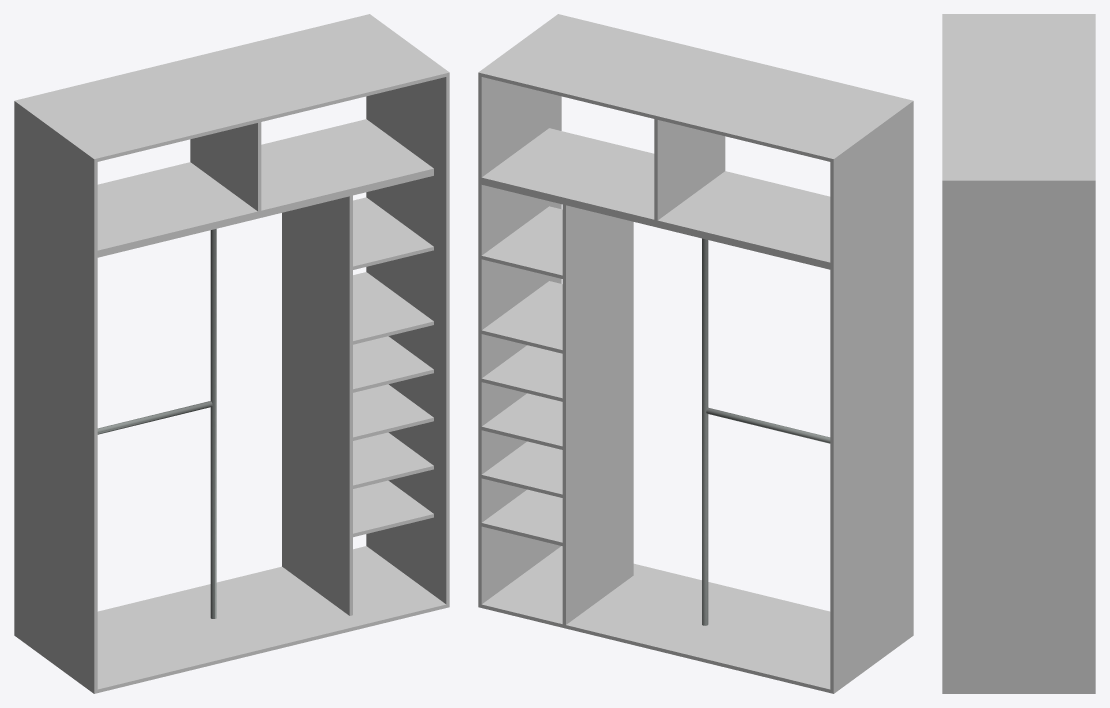
Rendered from normal_project.glb.
3 views of the same model, side by side, from view 1: azimuth 30°, elevation 25°; view 2: azimuth 150°, elevation 25°; view 3: azimuth 270°, elevation 25° (orthographic). The views are drawn at different scales.
Visible parts, largest first — view 1: 13_, 18_, 2_, 9_, 1_, 17_, 14_, 16_, 15_, 7_, 8_, 6_ (+6 smaller); view 2: 13_, 18_, 2_, 9_, 17_, 1_, 14_, 16_, 15_, 7_, 8_, 6_ (+6 smaller); view 3: 1_, 18_, 16_, 9_.
Boxes of the visible parts, <box> form: 13_: <box>14,209,97,690</box>; 18_: <box>14,14,449,162</box>; 2_: <box>282,195,352,615</box>; 9_: <box>14,546,449,693</box>; 1_: <box>366,172,449,604</box>; 17_: <box>97,119,433,253</box>; 14_: <box>14,104,97,266</box>; 16_: <box>366,76,449,180</box>; 15_: <box>190,122,261,211</box>; 7_: <box>353,272,433,344</box>; 8_: <box>353,197,433,269</box>; 6_: <box>353,336,433,392</box>; 13_: <box>830,209,913,690</box>; 18_: <box>478,14,913,162</box>; 2_: <box>562,204,633,624</box>; 9_: <box>478,546,913,693</box>; 17_: <box>481,128,830,265</box>; 1_: <box>478,123,561,604</box>; 14_: <box>830,104,913,266</box>; 16_: <box>478,76,561,180</box>; 15_: <box>654,119,725,220</box>; 7_: <box>481,281,562,353</box>; 8_: <box>481,206,562,278</box>; 6_: <box>481,345,562,401</box>; 1_: <box>942,284,1095,690</box>; 18_: <box>942,14,1095,183</box>; 16_: <box>942,184,1095,283</box>; 9_: <box>942,690,1095,693</box>.
Bounding box in the file's own units: 1.67 × 2.4 × 0.65.
Materials: 2 (1 with a texture image).
